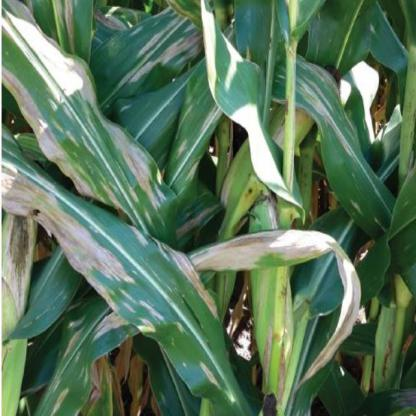corn leaf blight: (3, 141, 234, 415), (3, 9, 173, 231), (191, 225, 360, 408), (296, 52, 389, 223), (30, 308, 116, 415), (101, 8, 192, 104)
